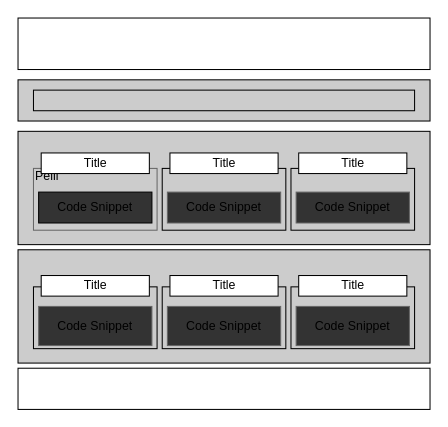
Some shapes in this 448 by 427 pixel diagram are drawn without their labels. Here are the shapes that lost their labels. From the top down, the centre of each, then its label:
At (223,43): "CSS Snippet Cheatsheet Wireframe".
At (223,100): "Lorem".
At (223,388): "Footer".
